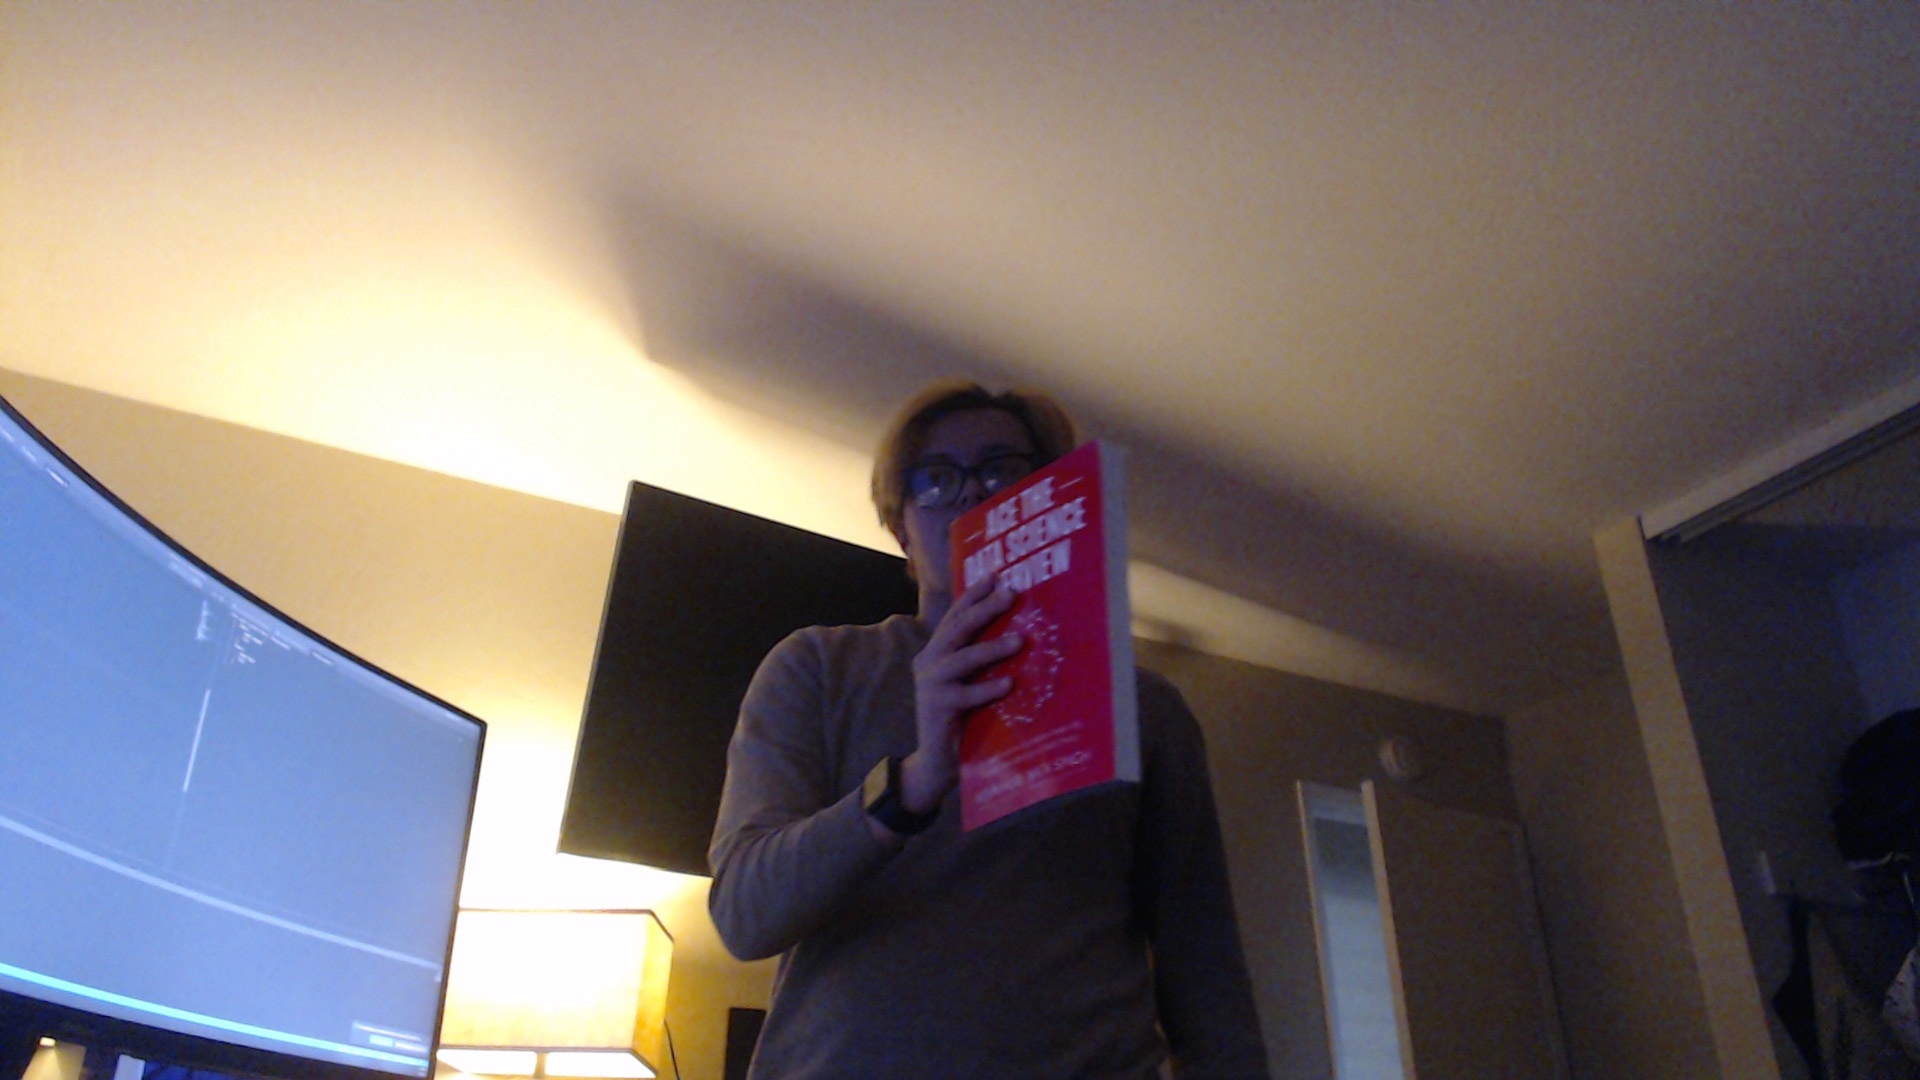book: (948, 440, 1141, 845)
